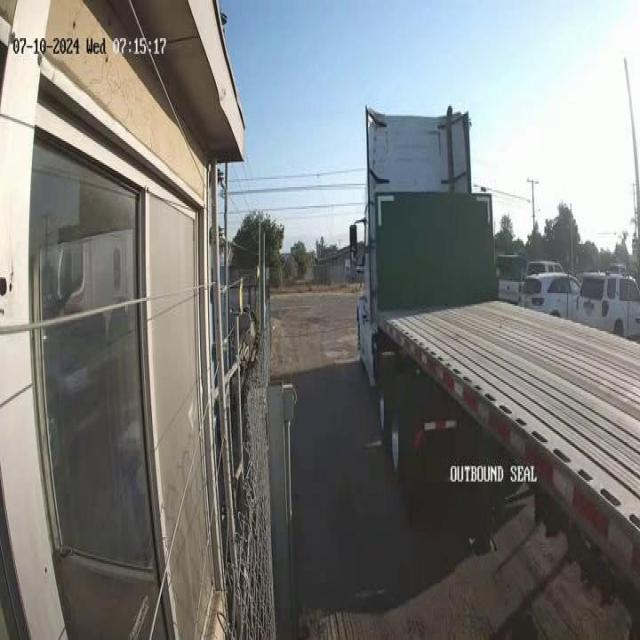BOBTAIL: (352, 102, 638, 595)
